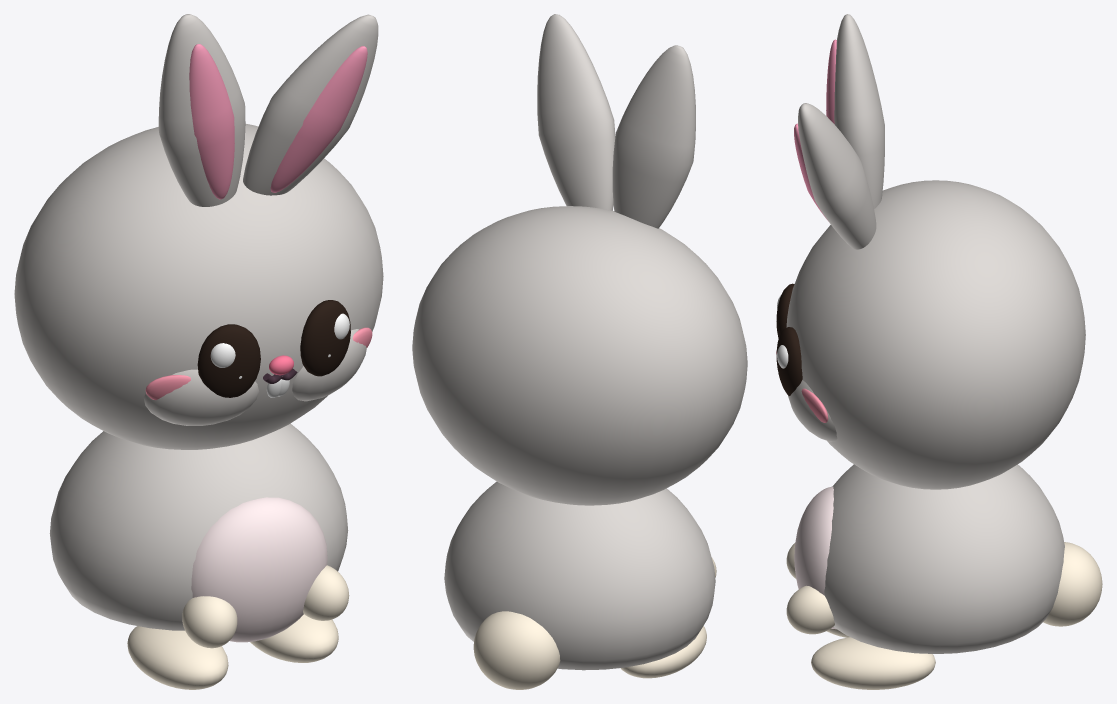
The model's file is bunny.glb.
3 renders of one model, left to right at view 1: azimuth 30°, elevation 25°; view 2: azimuth 150°, elevation 25°; view 3: azimuth 270°, elevation 25°, orthographic. The views are drawn at different scales.
Visible parts, largest first — view 1: skull, torso, tummy, ear_out_R, ear_out_L, ear_in_L, ear_in_R, foot_L.001, cheek_L, eye_L, eye_R, foot_R.001 (+4 smaller); view 2: skull, torso, ear_out_R, ear_out_L, puff, foot_L.001; view 3: skull, torso, ear_out_R, ear_out_L, foot_R.001, tummy, puff, paw_R, eye_R, cheek_R, ear_in_L, eye_L.
Boxes of the visible parts, box(x1,y1,x2,y2) form: skull: box(14, 124, 383, 449); torso: box(49, 423, 348, 630); tummy: box(191, 497, 327, 642); ear_out_R: box(243, 14, 378, 195); ear_out_L: box(158, 14, 245, 206); ear_in_L: box(189, 44, 234, 199); ear_in_R: box(270, 46, 367, 192); foot_L.001: box(127, 626, 228, 689); cheek_L: box(143, 369, 259, 425); eye_L: box(197, 324, 260, 397); eye_R: box(300, 300, 350, 376); foot_R.001: box(250, 614, 338, 662); skull: box(412, 206, 747, 505); torso: box(444, 481, 715, 670); ear_out_R: box(537, 14, 615, 210); ear_out_L: box(612, 45, 695, 228); puff: box(473, 611, 560, 689); foot_L.001: box(620, 626, 706, 678); skull: box(786, 180, 1085, 489); torso: box(824, 464, 1064, 653); ear_out_R: box(798, 103, 876, 249); ear_out_L: box(834, 14, 884, 208); foot_R.001: box(811, 637, 935, 689); tummy: box(794, 486, 836, 629); puff: box(1043, 542, 1102, 626); paw_R: box(786, 585, 834, 634); eye_R: box(776, 327, 802, 395); cheek_R: box(788, 380, 837, 441); ear_in_L: box(826, 39, 836, 123); eye_L: box(776, 283, 794, 338).
Bounding box in the file's own units: 0.84 × 1.64 × 0.7828.
